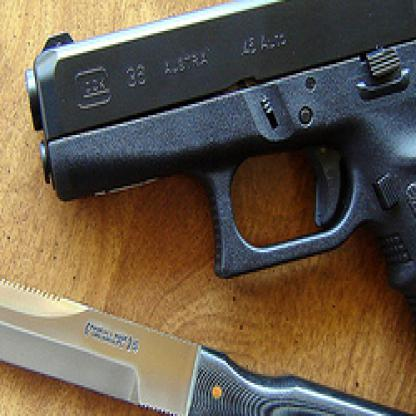gun: (15, 0, 414, 407)
